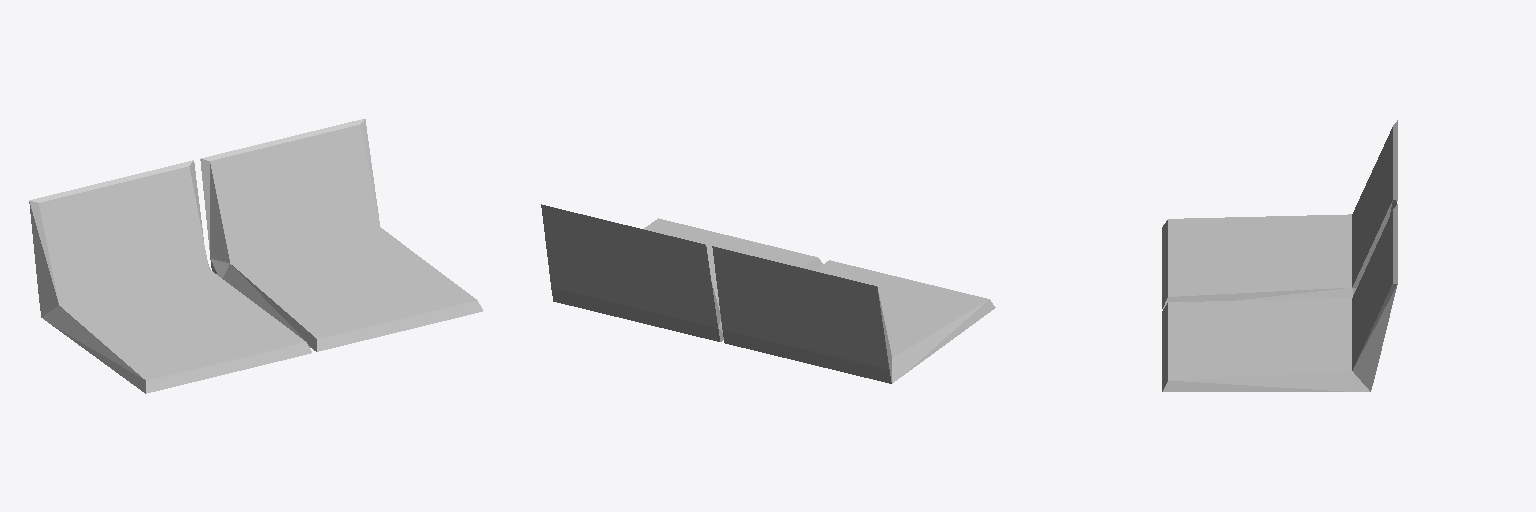
File: sofa_cushion.obj
3 views of the same model, side by side, from view 1: azimuth 30°, elevation 25°; view 2: azimuth 150°, elevation 25°; view 3: azimuth 270°, elevation 25° (orthographic).
Visible parts, largest first — view 1: COJI; view 2: COJI; view 3: COJI.
Part boxes in pixels (left/top/right/bottom): COJI: left=29, top=119, right=482, bottom=393; COJI: left=541, top=204, right=995, bottom=383; COJI: left=1162, top=120, right=1397, bottom=391.
Size of the model in its own units: 3.21 by 0.9719 by 1.93.